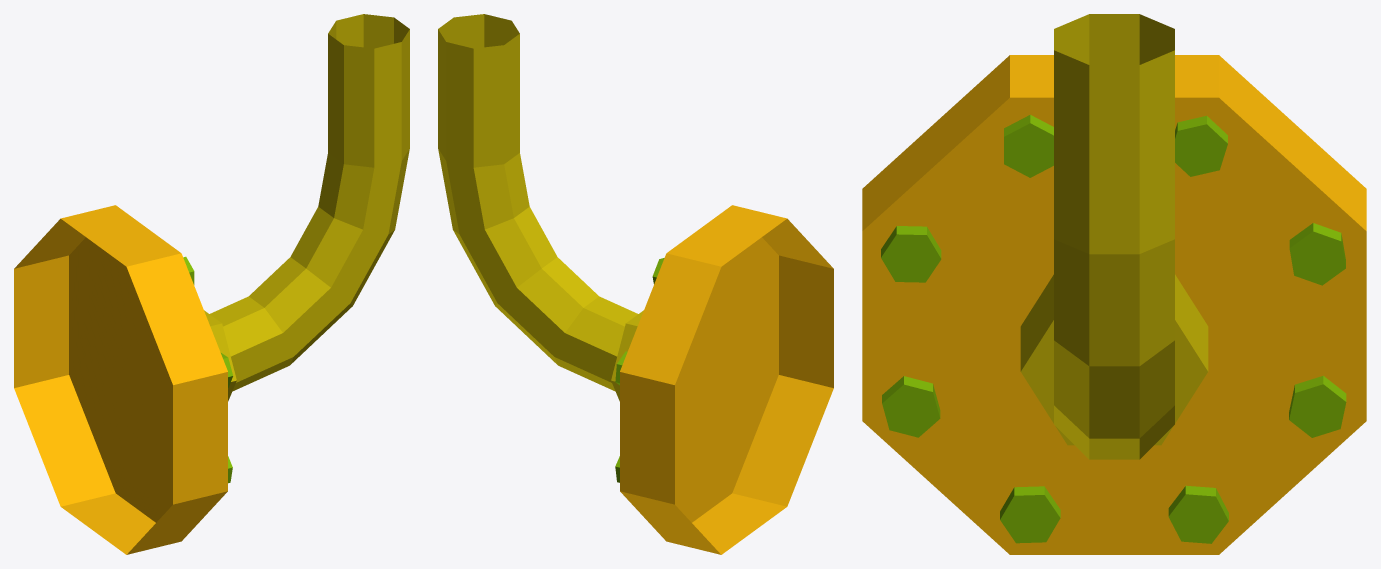
The model's file is fpe_fluid_line_adapter_angle.dae.
3 renders of one model, left to right at view 1: azimuth 30°, elevation 25°; view 2: azimuth 150°, elevation 25°; view 3: azimuth 270°, elevation 25°, orthographic. The views are drawn at different scales.
Visible parts, largest first — view 1: fluid_line_adapter_angle; view 2: fluid_line_adapter_angle; view 3: fluid_line_adapter_angle.
Boxes of the visible parts, left/top/right/bottom form: fluid_line_adapter_angle: left=14, top=14, right=409, bottom=554; fluid_line_adapter_angle: left=438, top=14, right=833, bottom=554; fluid_line_adapter_angle: left=862, top=14, right=1366, bottom=554.
Bounding box in the file's own units: 0.14 × 0.125 × 0.1875.
